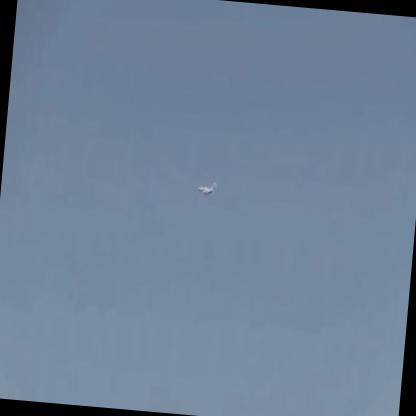plane: (197, 182, 218, 198)
